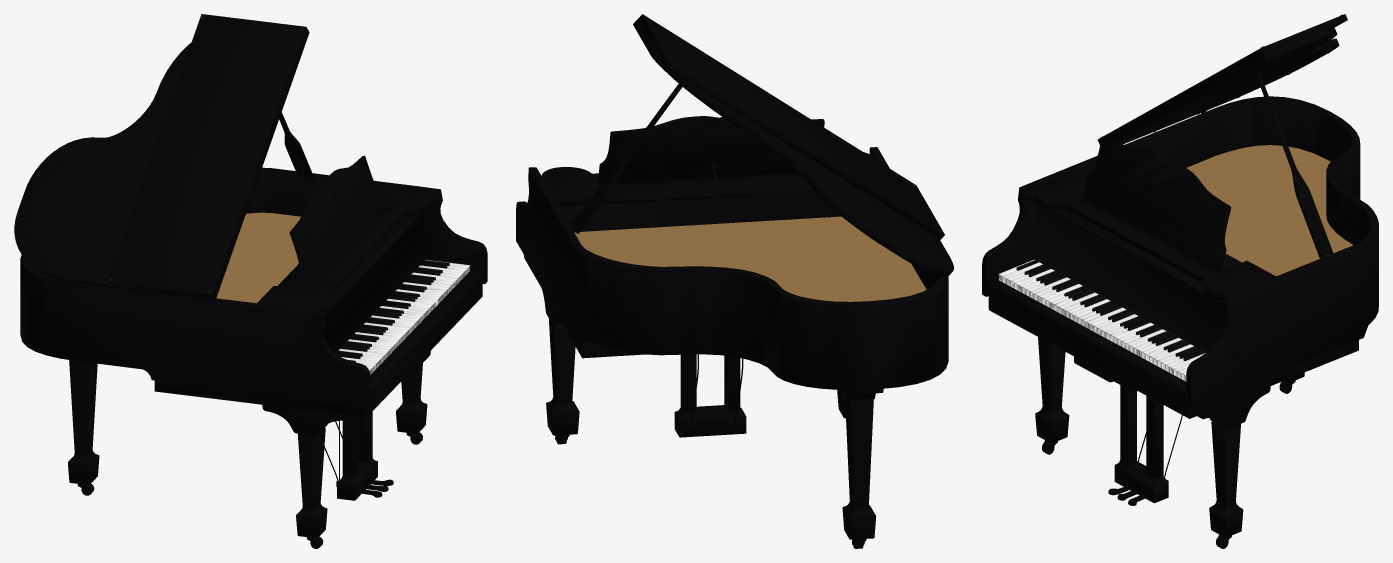
The model's file is piano.FBX.
The picture shows the model from 3 angles, left to right: view 1: azimuth 30°, elevation 25°; view 2: azimuth 150°, elevation 25°; view 3: azimuth 270°, elevation 25°; orthographic projection. The views are drawn at different scales.
Parts seen in each view (by area): view 1: PIANO; view 2: PIANO; view 3: PIANO.
Part boxes in pixels (box(x1,y1,x2,y2)): PIANO: box(14, 14, 487, 548); PIANO: box(516, 14, 953, 548); PIANO: box(982, 14, 1378, 548).
Bounding box in the file's own units: 50.37 × 47.86 × 38.07.
